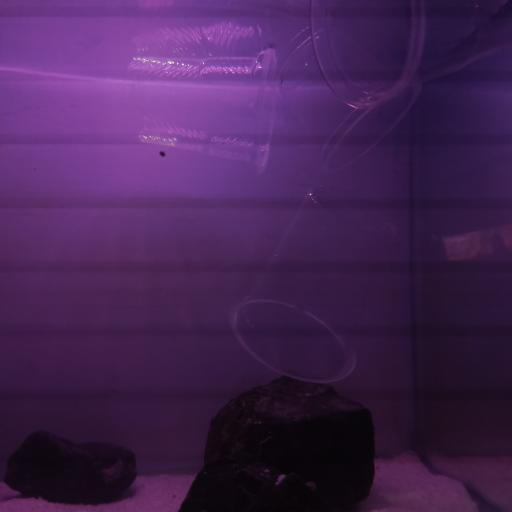plastic_cup: (227, 188, 397, 386), (268, 16, 421, 176), (308, 1, 502, 112), (120, 45, 280, 175)
